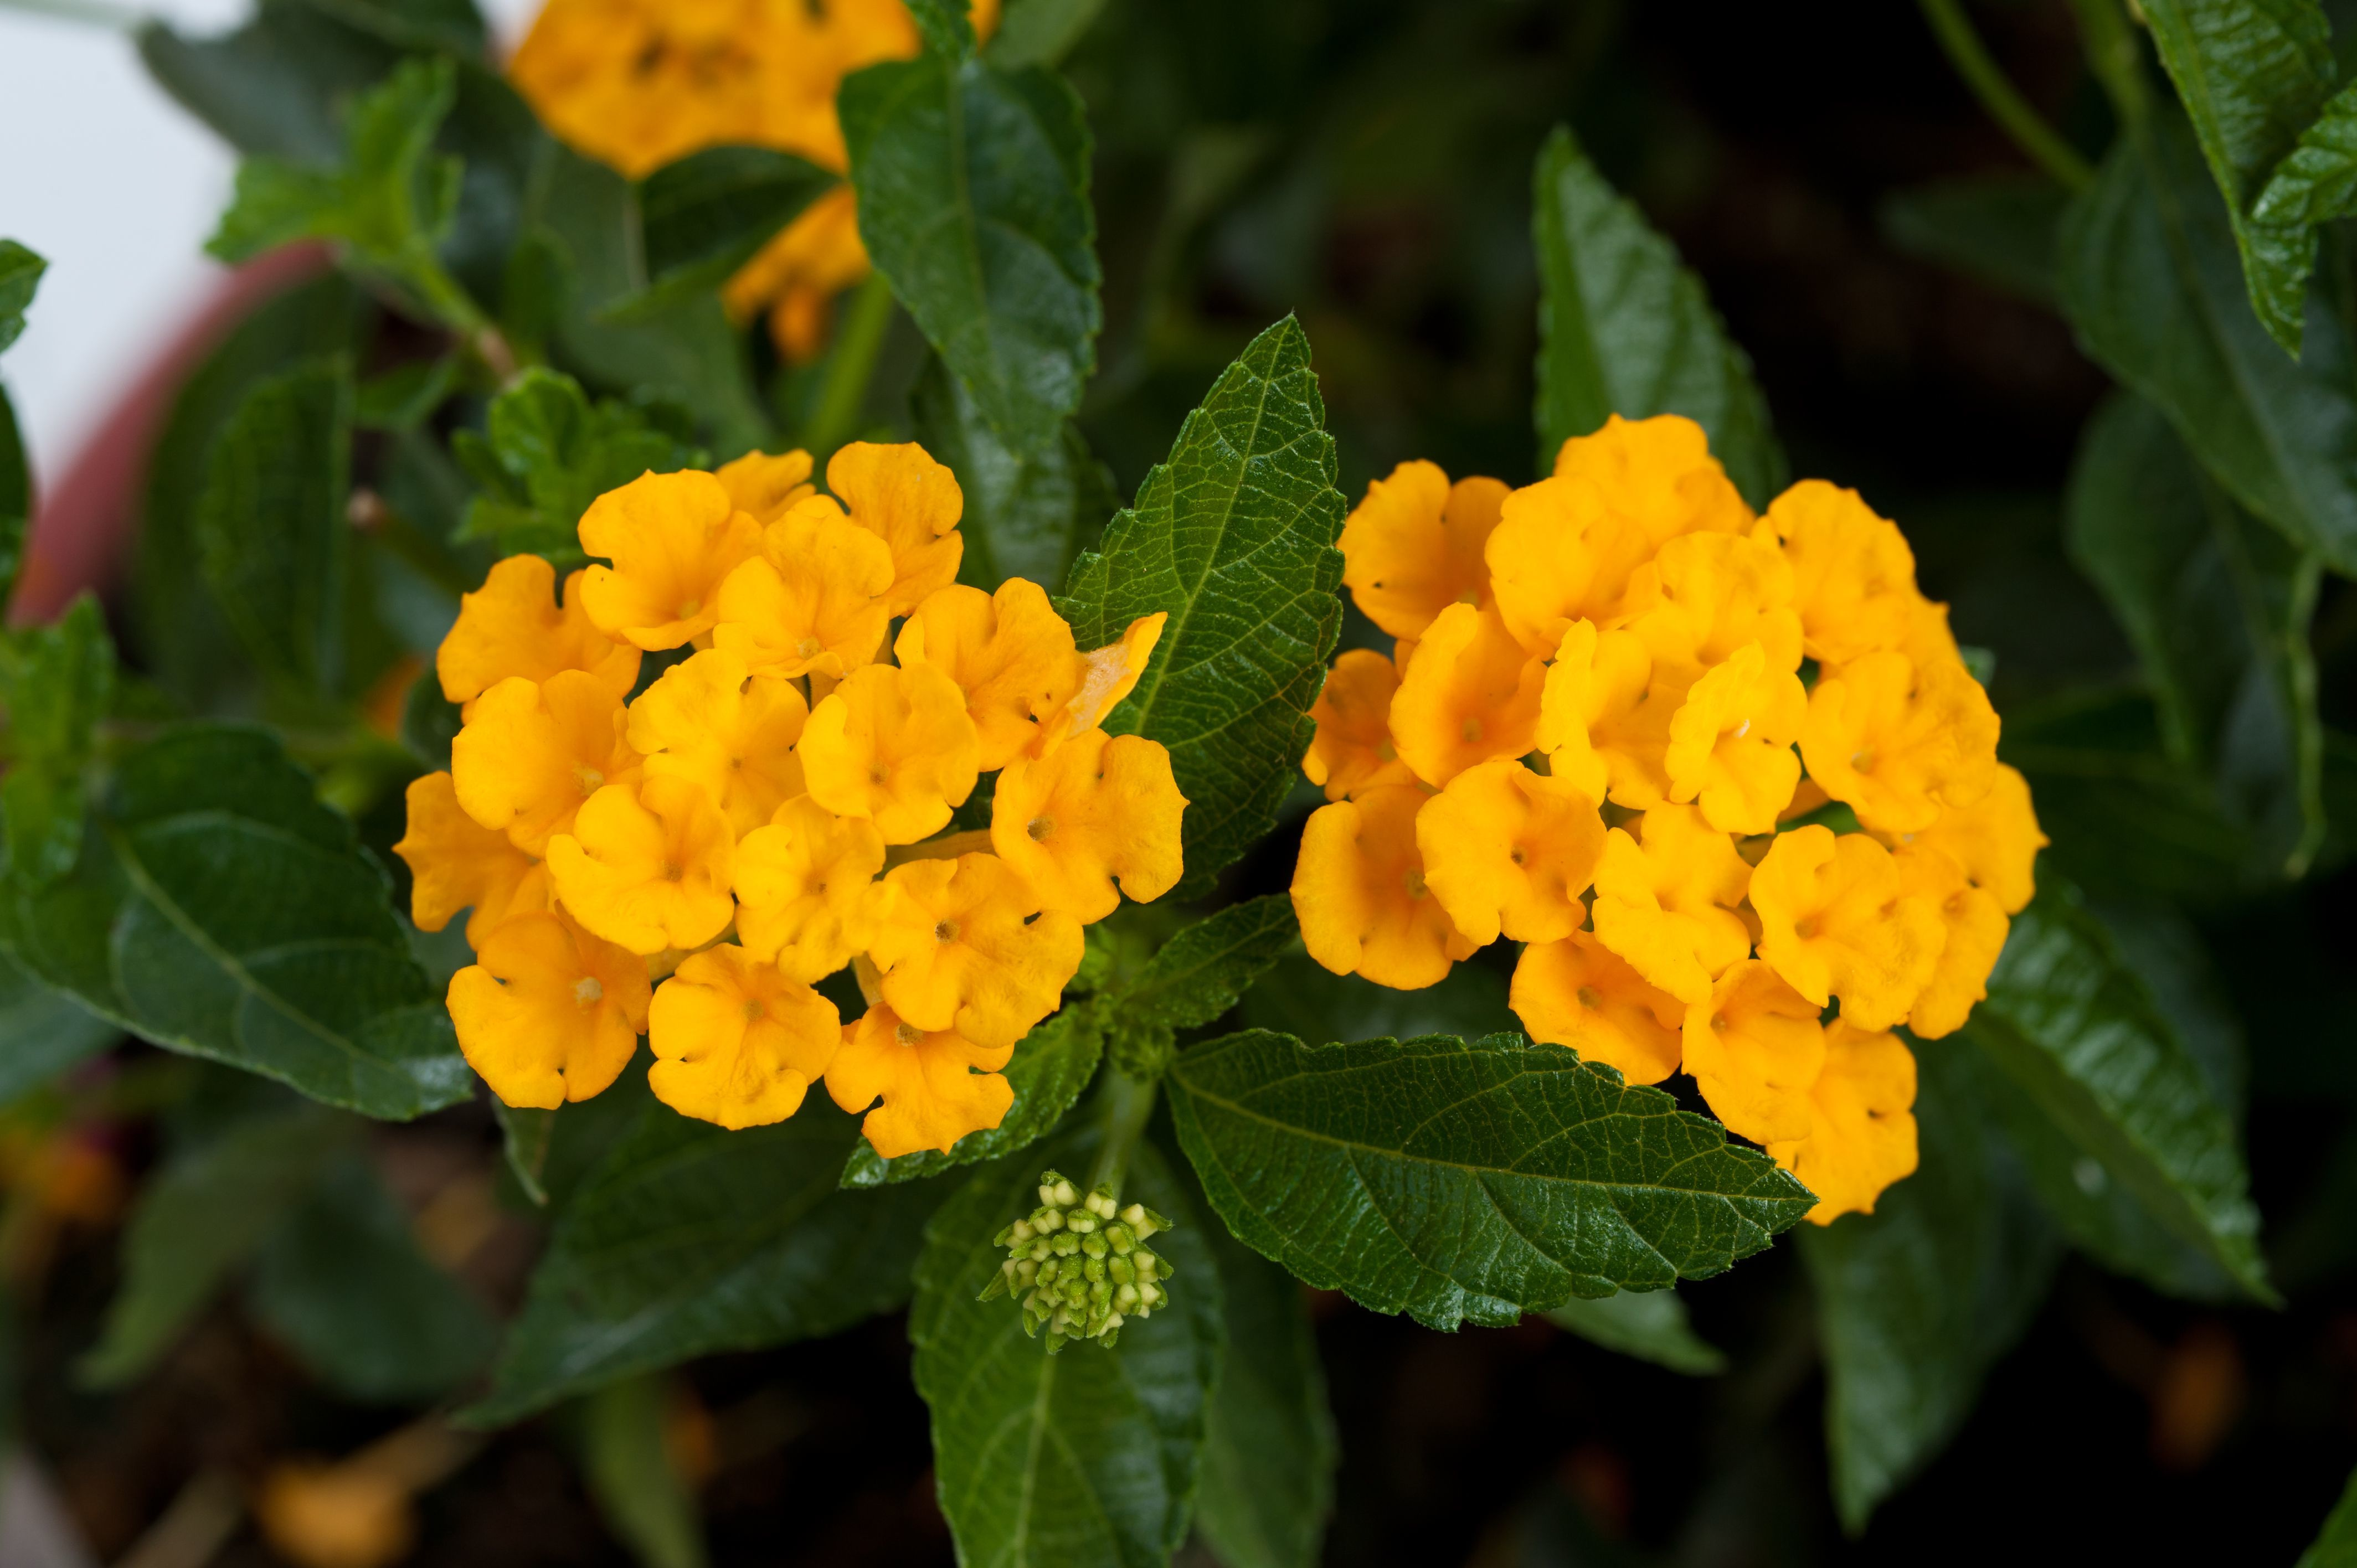lantana: (444, 917, 647, 1106), (1288, 793, 1475, 985), (994, 738, 1186, 922), (654, 947, 838, 1132), (626, 649, 805, 836), (796, 668, 982, 842), (1416, 763, 1598, 938), (549, 784, 735, 947), (579, 471, 754, 642), (717, 497, 887, 670), (1344, 464, 1512, 639), (1388, 604, 1549, 786), (1774, 1024, 1916, 1227), (1753, 822, 1906, 1010), (898, 579, 1076, 738), (1599, 810, 1748, 1001), (451, 677, 621, 840), (1507, 934, 1683, 1088), (833, 1008, 1017, 1155), (875, 859, 1032, 1029), (740, 801, 884, 982), (1804, 658, 1953, 829), (1487, 478, 1640, 642), (1683, 962, 1823, 1141), (1545, 618, 1673, 807), (1638, 534, 1801, 679), (1671, 653, 1799, 836)
